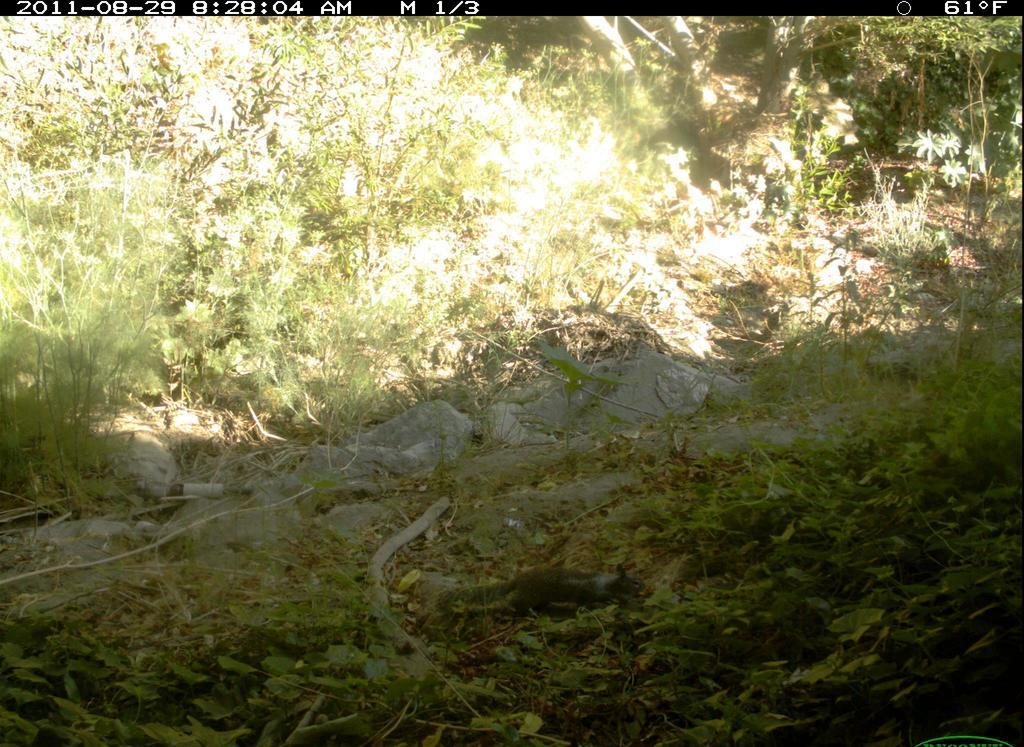squirrel: (427, 558, 655, 626)
